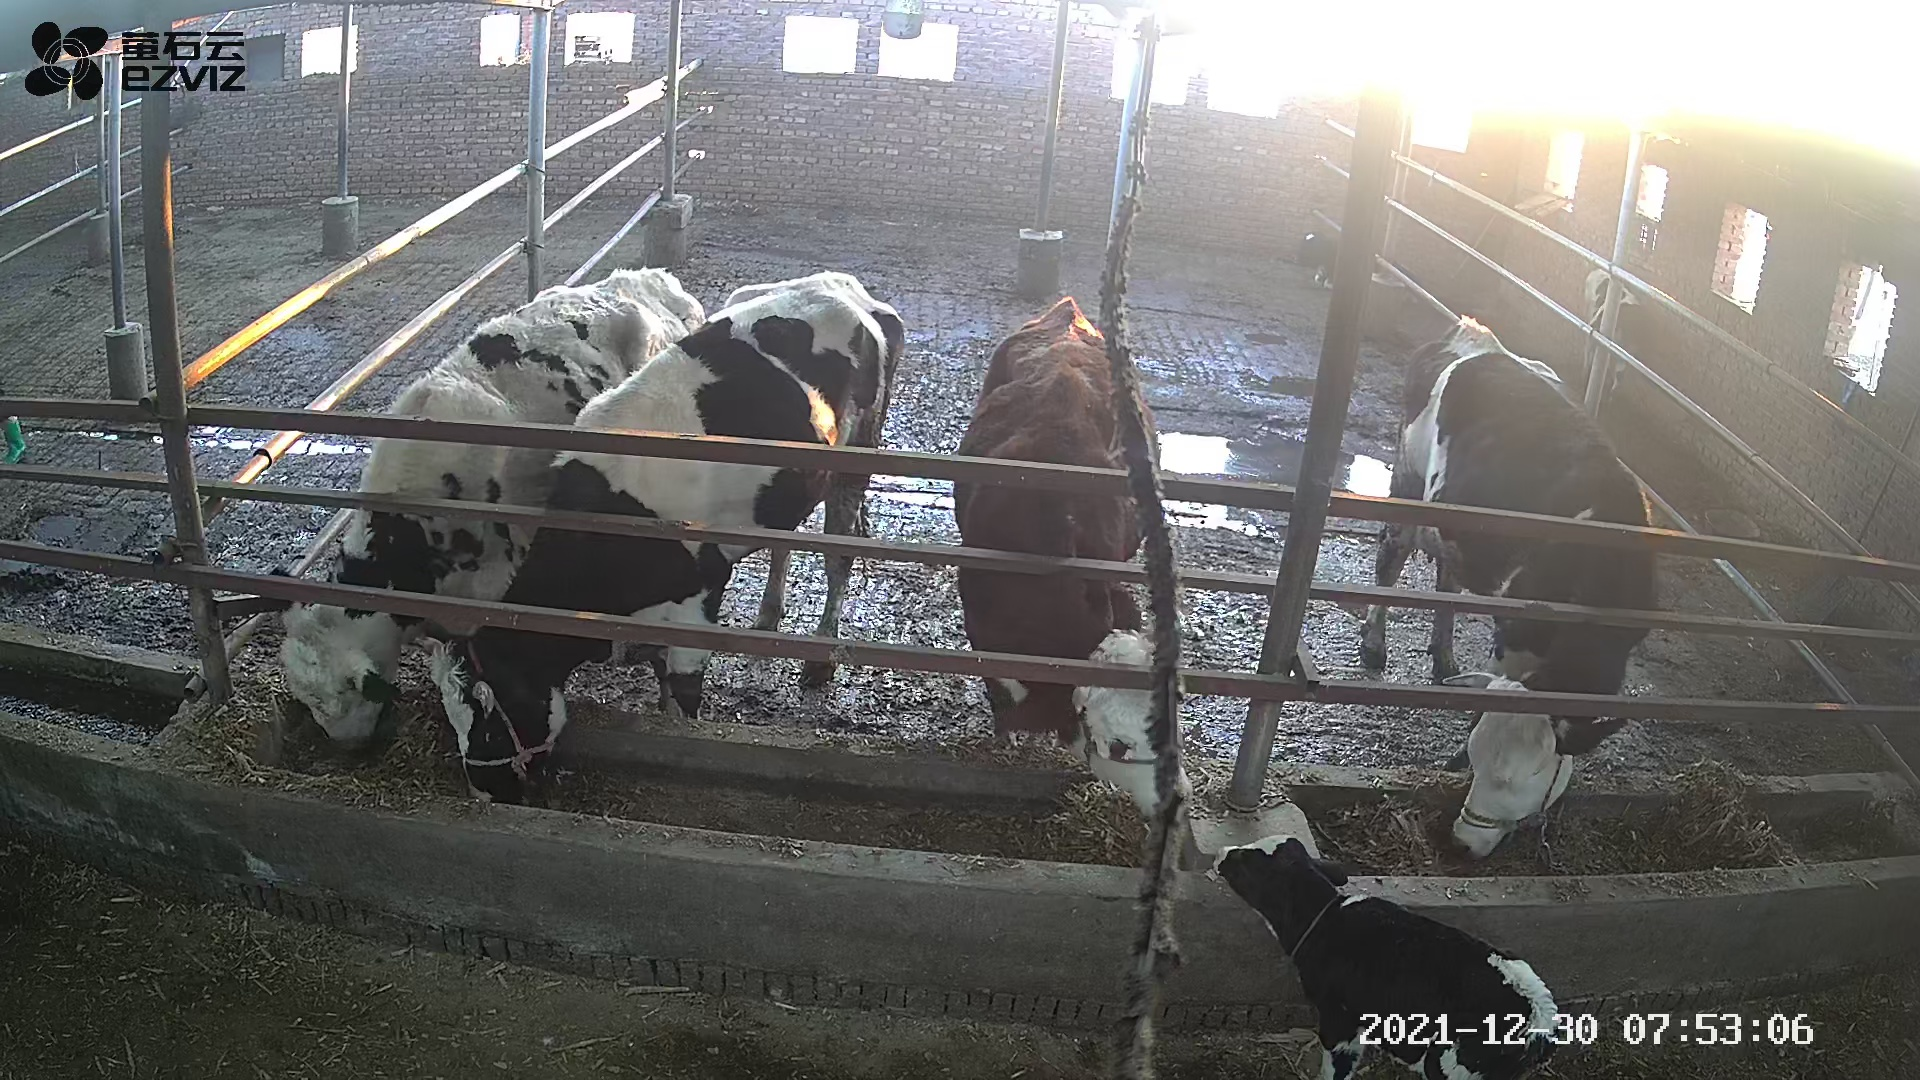cow: (407, 270, 907, 804), (262, 266, 705, 742), (1358, 313, 1654, 860), (953, 298, 1193, 828)
